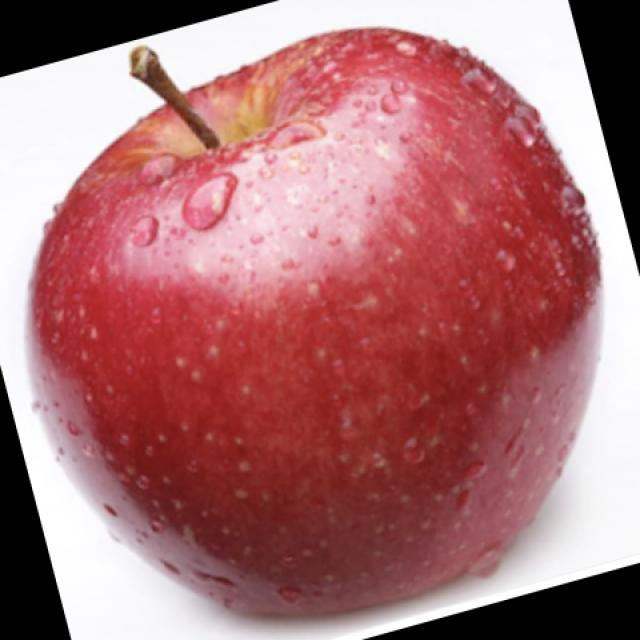Fresh Apple: (39, 38, 606, 640)
